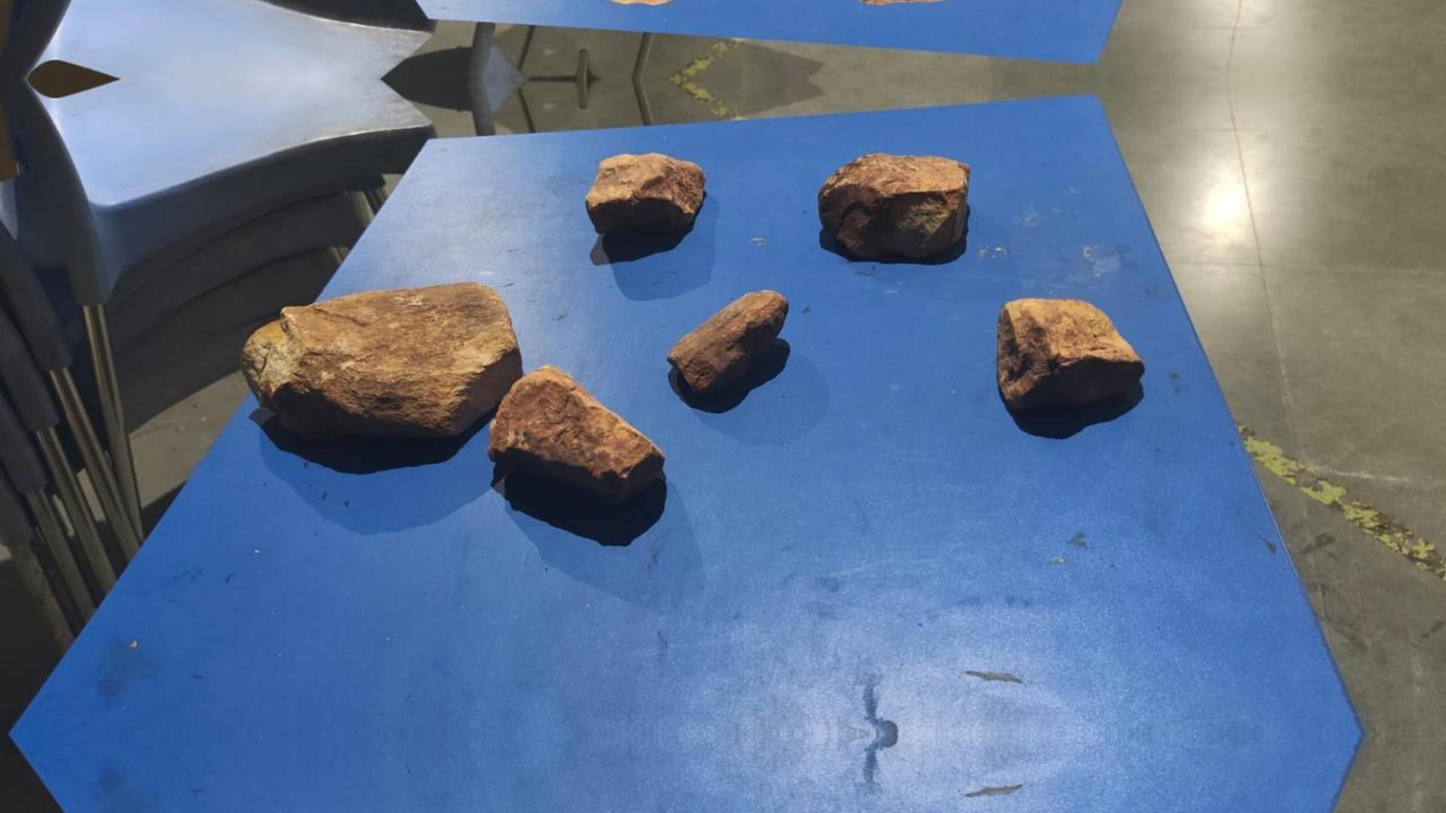rock: (241, 282, 520, 438), (488, 365, 663, 502), (996, 298, 1143, 411), (818, 154, 969, 260), (667, 290, 789, 392), (585, 152, 705, 234), (856, 0, 949, 7), (607, 0, 674, 6)
